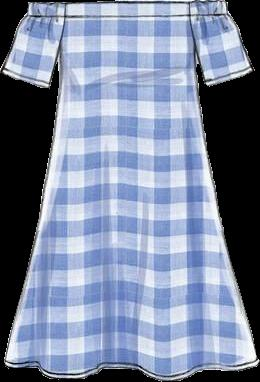Bodice: (4, 1, 258, 380)
Neckline: (64, 0, 190, 6)
Sleeve: (188, 0, 254, 86), (0, 2, 64, 88)
Sleeveline: (54, 3, 67, 63), (190, 0, 201, 63)
Waistline: (3, 359, 259, 380)
